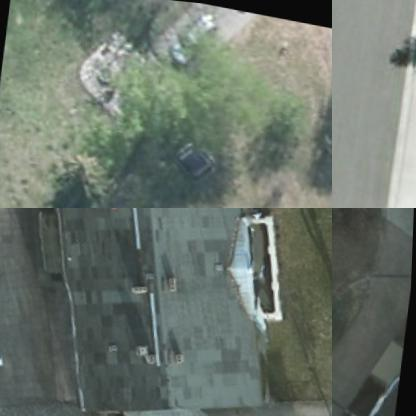car: (165, 0, 223, 73)
pickup: (146, 100, 226, 184)
